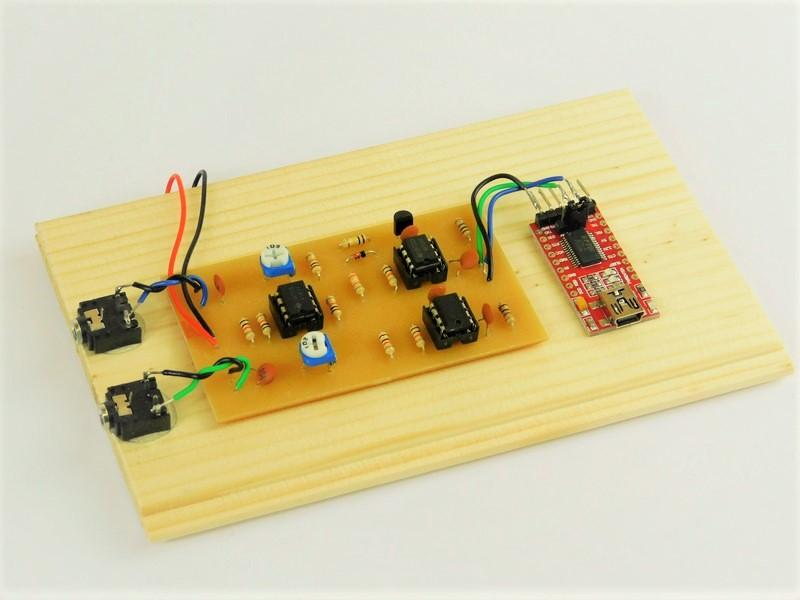resistor: (341, 233, 369, 249), (455, 217, 473, 240), (378, 331, 395, 355), (382, 264, 399, 288), (348, 273, 366, 295), (499, 302, 516, 325), (256, 312, 272, 336), (240, 317, 256, 340), (306, 251, 322, 274), (410, 325, 425, 349), (326, 296, 342, 317)
